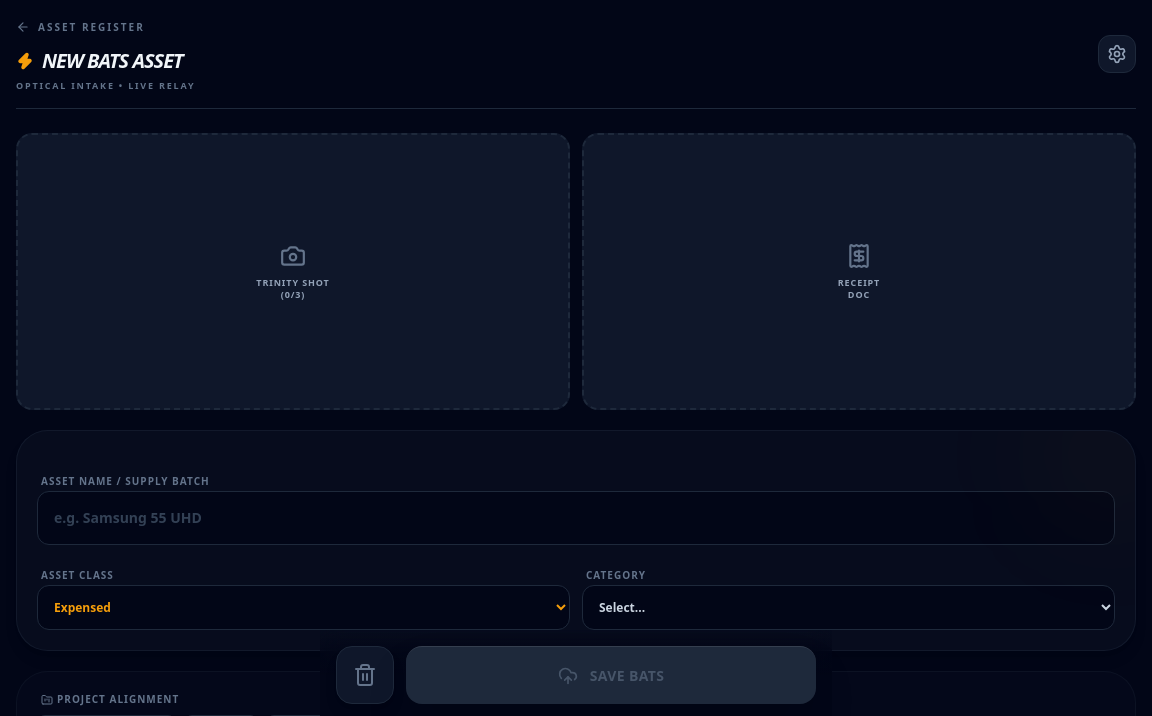
Test case: BATS intake UI › requires asset name and category before save
Expected: the button "SAVE BATS" is disabled, [406, 646, 816, 704]
In the field with placeholder "e.g. Samsung 55 UHD": (576, 518) [37, 491, 1115, 545], type "Studio Display"
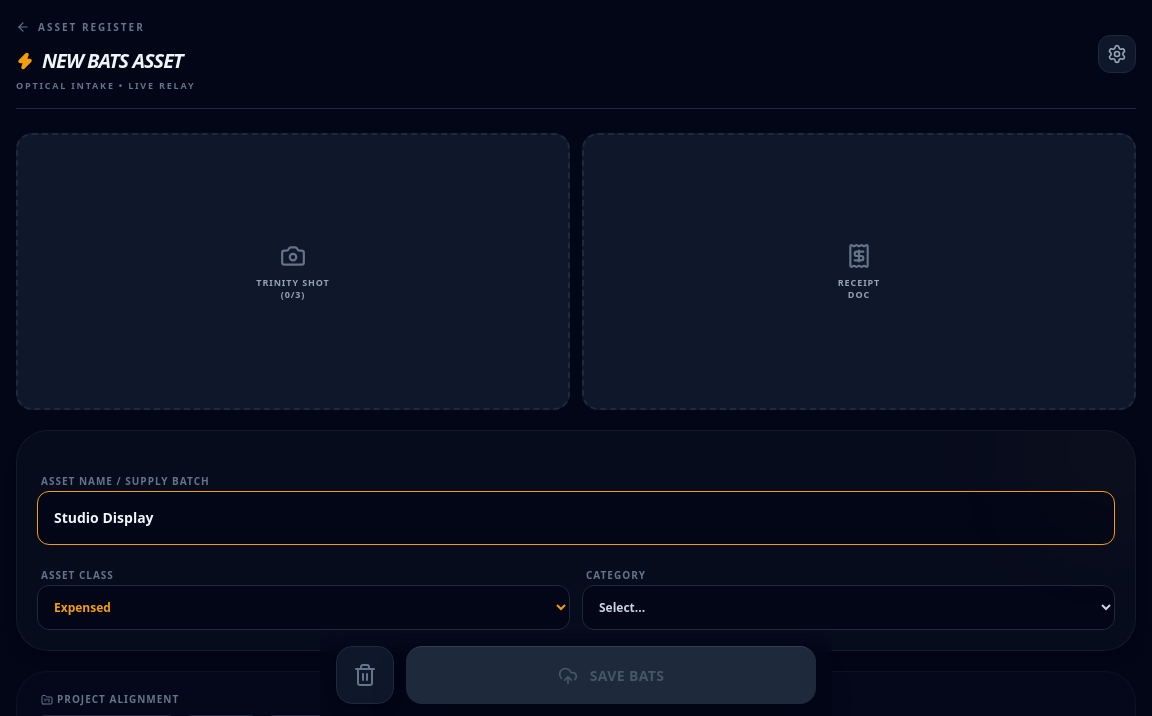
Expected: the button "SAVE BATS" is disabled, [406, 646, 816, 704]
Select "Visuals - Displays" in the dropdown below "Category": (848, 608) [582, 585, 1115, 630]
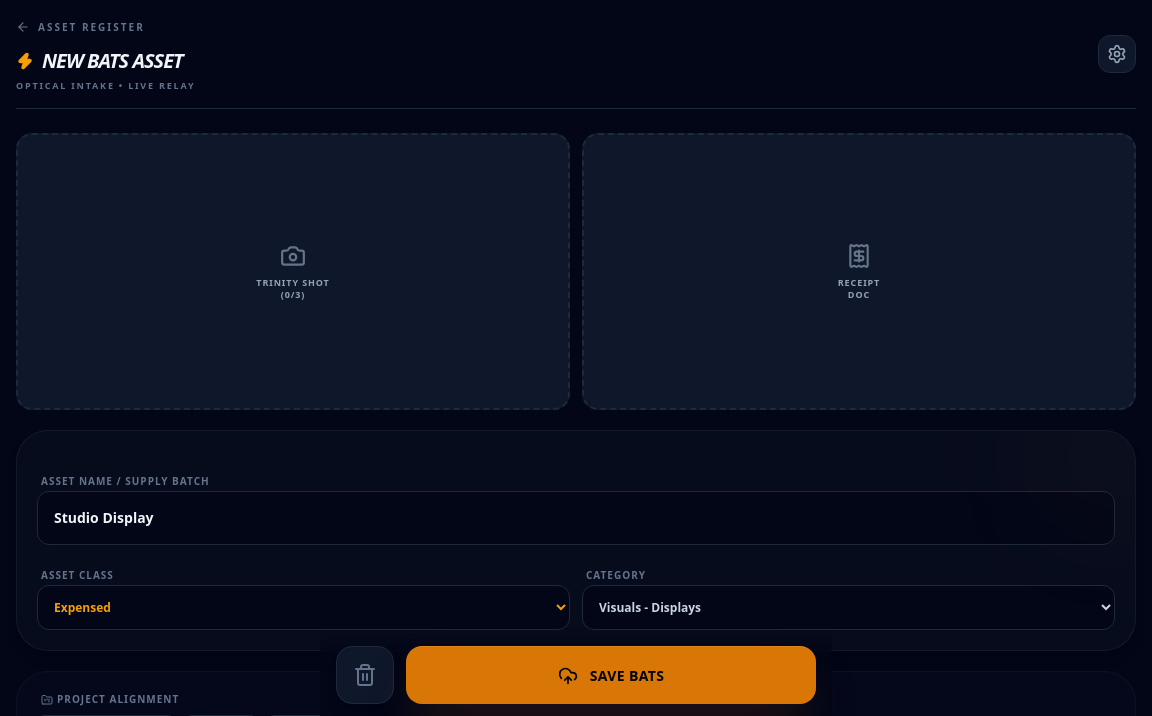
Expected: the button "SAVE BATS" is enabled, [406, 646, 816, 704]
